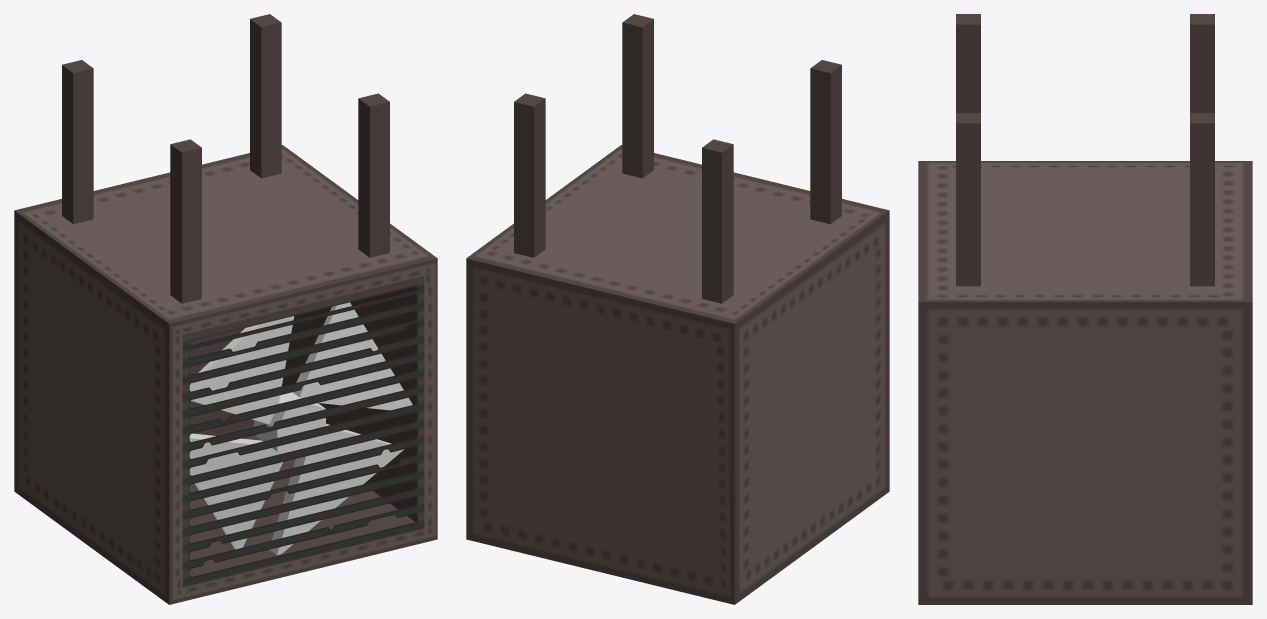
Rendered from Vent_0.fbx.
3 renders of one model, left to right at view 1: azimuth 30°, elevation 25°; view 2: azimuth 150°, elevation 25°; view 3: azimuth 270°, elevation 25°, orthographic. The views are drawn at different scales.
Parts seen in each view (by area): view 1: Vent_0, Fan_0; view 2: Vent_0; view 3: Vent_0.
Boxes of the visible parts, x1=… form: Vent_0: x1=14, y1=14, x2=437, y2=604; Fan_0: x1=189, y1=302, x2=412, y2=554; Vent_0: x1=466, y1=14, x2=889, y2=604; Vent_0: x1=918, y1=14, x2=1252, y2=604.
Size of the model in its own units: 200 by 308 by 200.
1 material, 1 textured.
